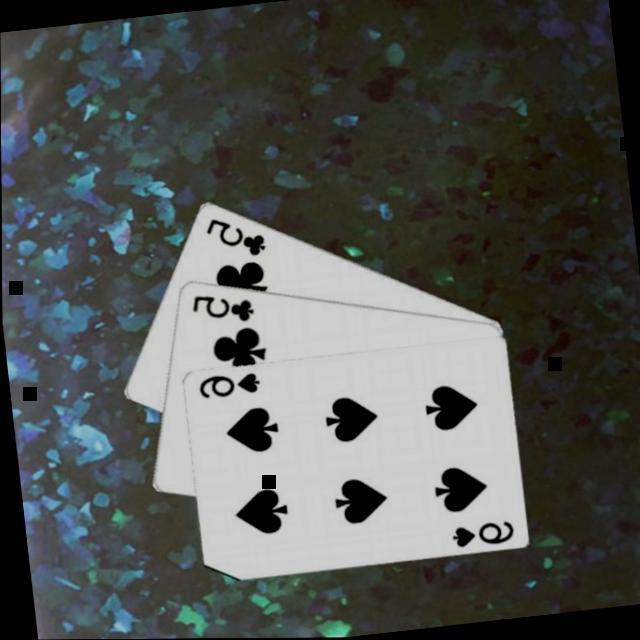5C: (198, 208, 267, 263), (184, 284, 254, 329)
6S: (191, 366, 259, 400), (446, 516, 514, 550)
